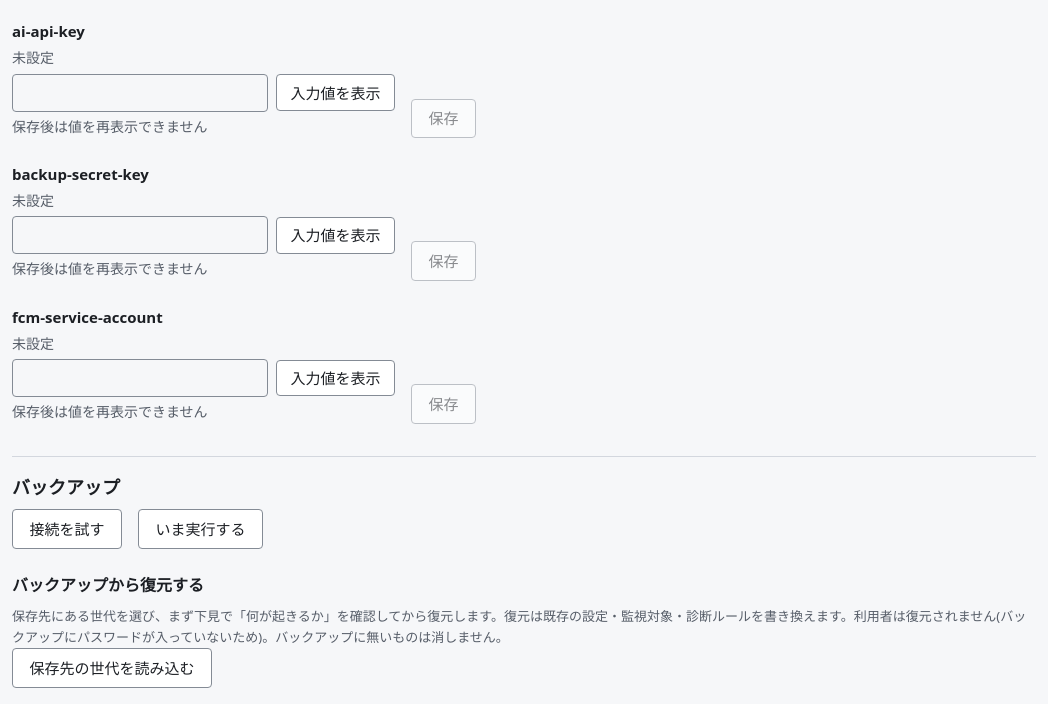
Test: SettingsView バックアップからの復元 › 下見をするまで復元を実行できない
(page scrolled)
Click the button with test id "load-generations" at (112, 668), box [12, 648, 212, 688]
(page scrolled)
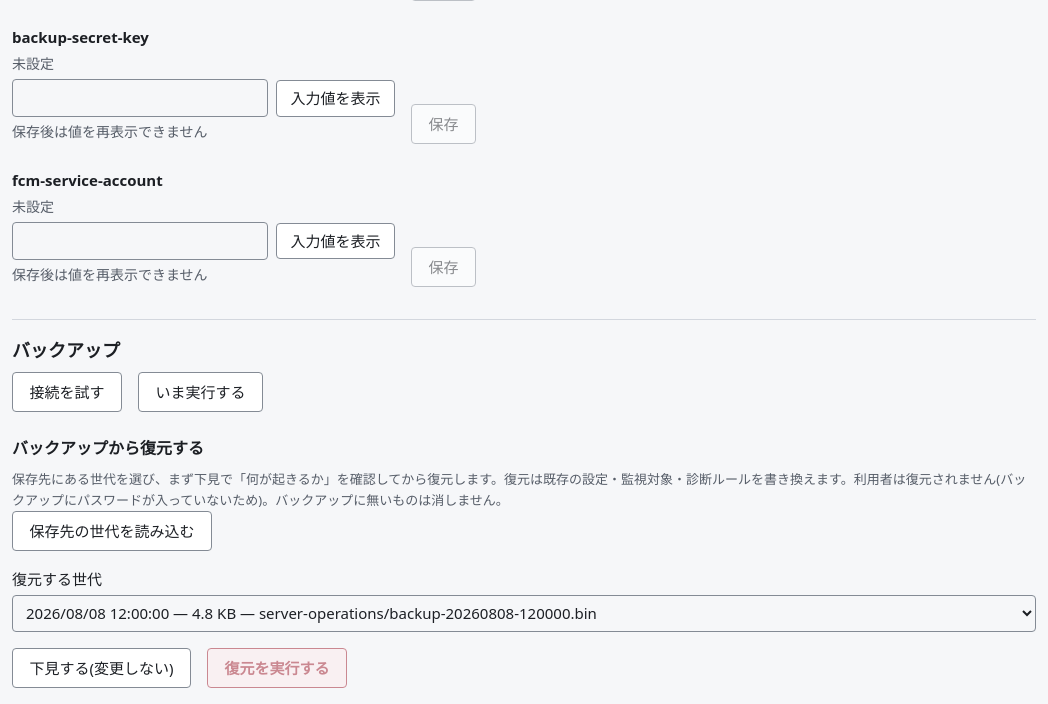
Expected: the button with test id "apply-restore" is disabled, [207, 648, 347, 688]
